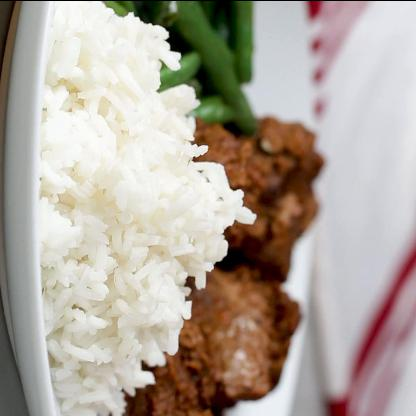white rice: (38, 1, 258, 415)
